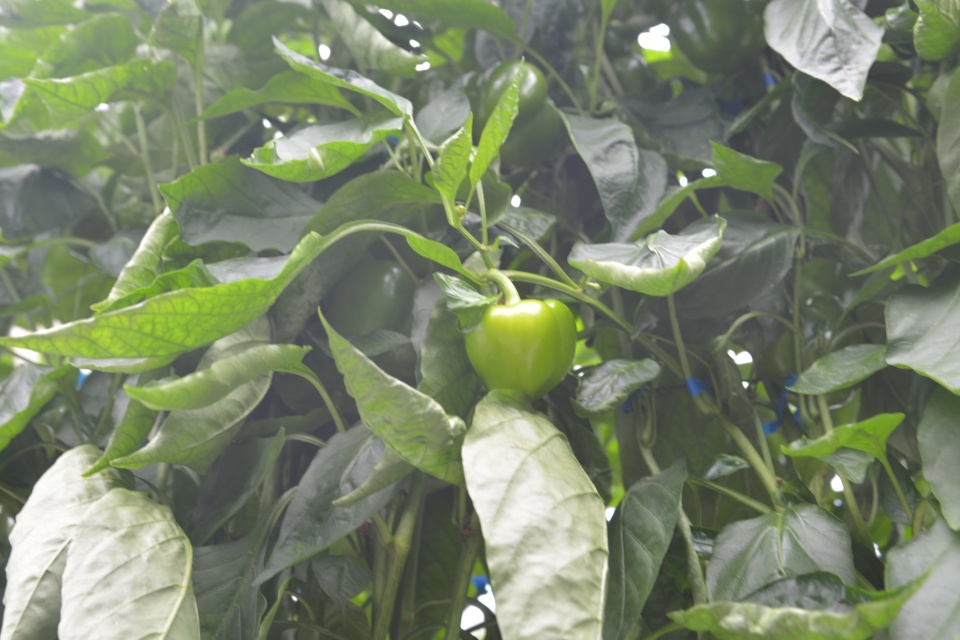fruit: (304, 257, 417, 378), (454, 57, 572, 172), (462, 296, 579, 401), (666, 0, 768, 77)
